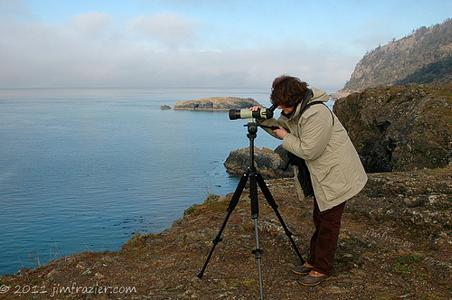person: (246, 77, 368, 286)
